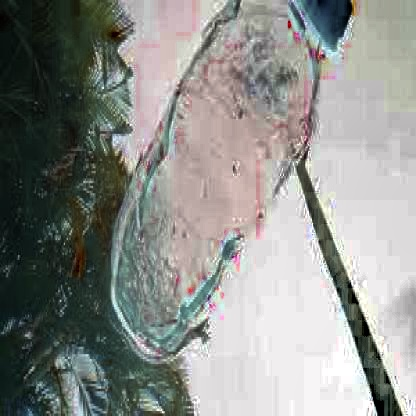pbottle: (101, 2, 361, 369)
